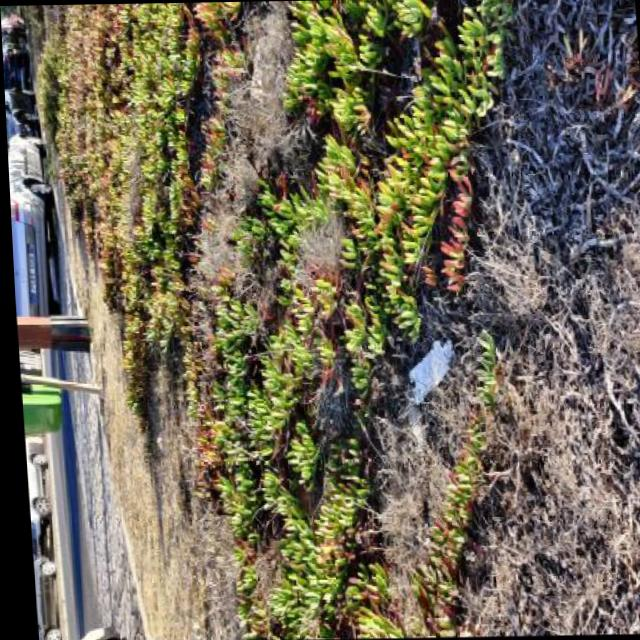paper: (407, 339, 457, 407)
